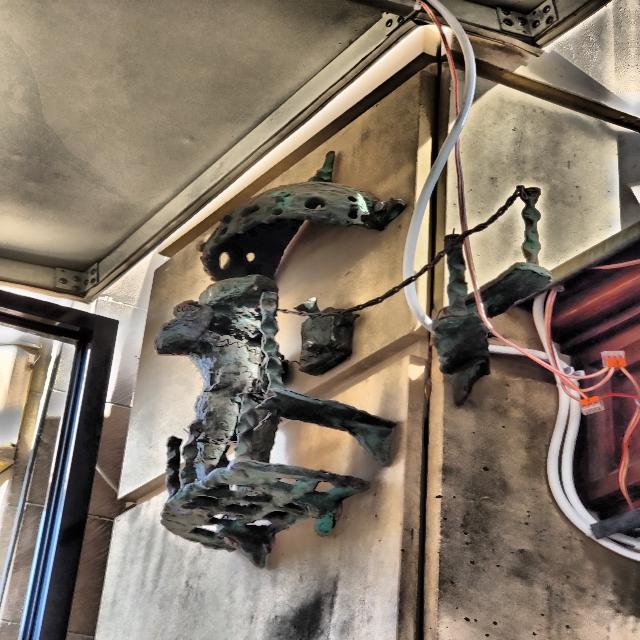Dryndek: (155, 151, 405, 568)
